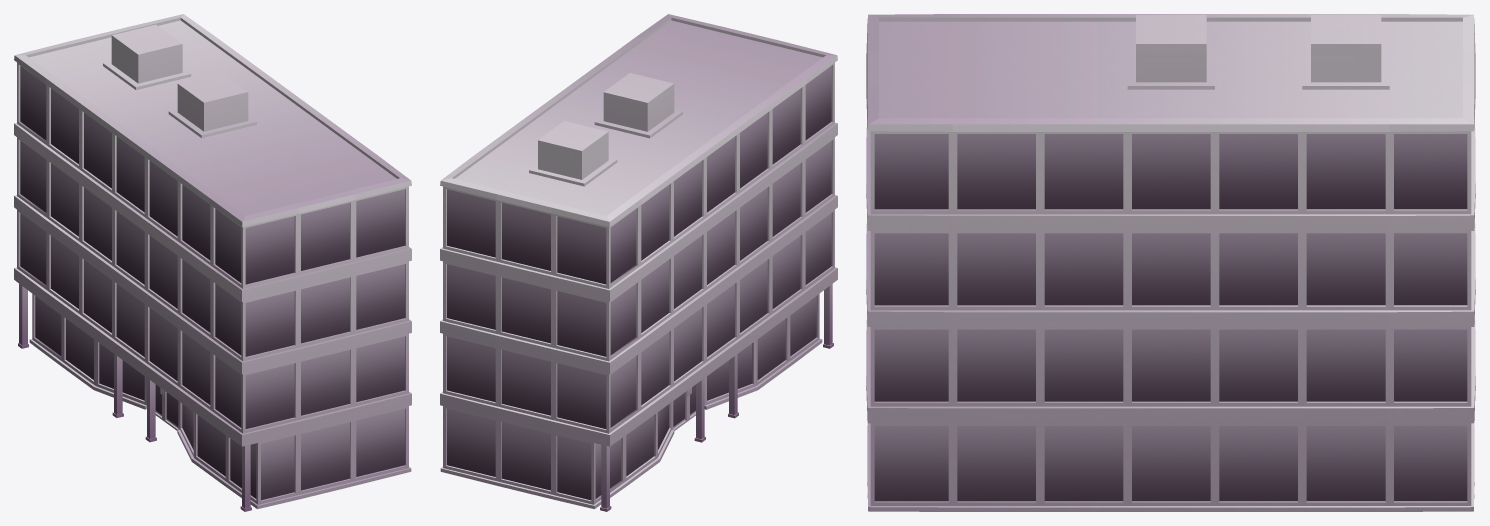
File: miami_building_004.FBX
3 renders of one model, left to right at view 1: azimuth 30°, elevation 25°; view 2: azimuth 150°, elevation 25°; view 3: azimuth 270°, elevation 25°, orthographic. The views are drawn at different scales.
Visible parts, largest first — view 1: Box002; view 2: Box002; view 3: Box002.
Part boxes in pixels (<box>): Box002: <box>14,14,411,511</box>; Box002: <box>440,14,837,511</box>; Box002: <box>866,14,1475,511</box>.
Bounding box in the file's own units: 310 × 555 × 717.
